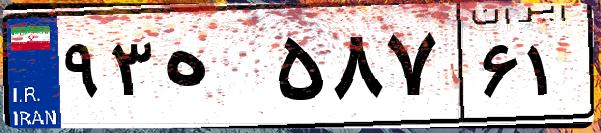1: (525, 38, 570, 115)
3: (110, 28, 158, 98)
5: (270, 28, 330, 110)
6: (475, 38, 525, 113)
7: (385, 28, 445, 110)
8: (330, 28, 385, 110)
9: (57, 26, 110, 100)
ه: (158, 20, 270, 120)
